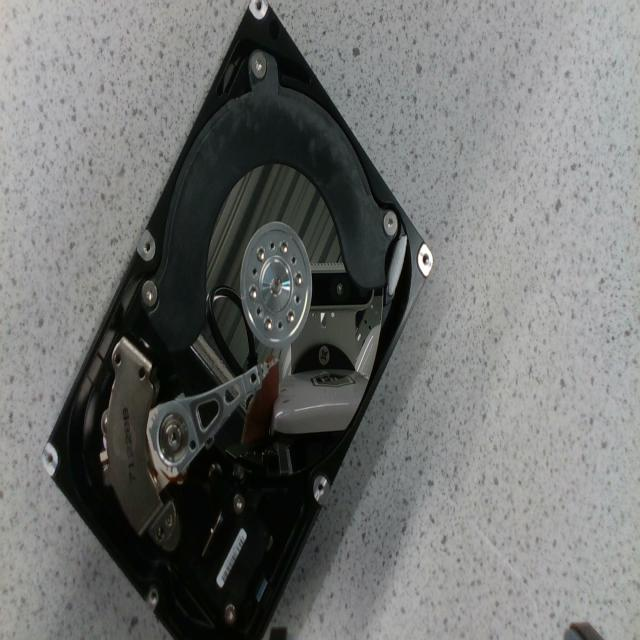actuator arm: (147, 360, 278, 476)
actuator axis: (164, 416, 182, 456)
case: (41, 0, 432, 639)
magnet: (104, 337, 160, 530)
pcb connector: (195, 495, 271, 622)
platter: (178, 170, 382, 483)
platter holder: (240, 222, 312, 348)
platter protector: (146, 57, 390, 352)
screw: (142, 278, 158, 313), (250, 51, 266, 79), (383, 210, 398, 238), (224, 604, 236, 625), (233, 494, 244, 515), (264, 316, 272, 330), (249, 285, 256, 300), (286, 310, 294, 322), (257, 247, 264, 260), (280, 242, 288, 253), (295, 273, 302, 285)
